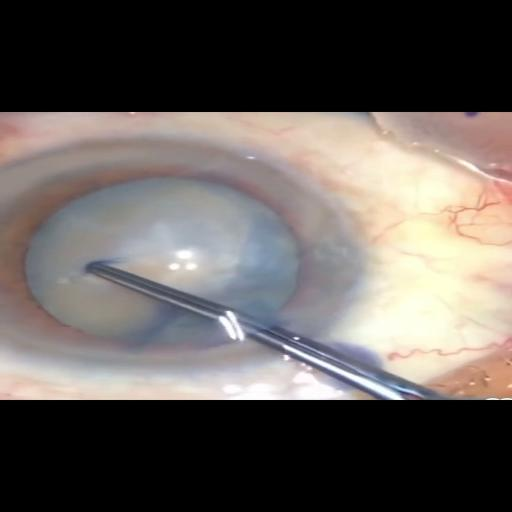catarata: (27, 177, 294, 341)
cornea: (0, 138, 393, 376)
pupil: (0, 161, 310, 349)
